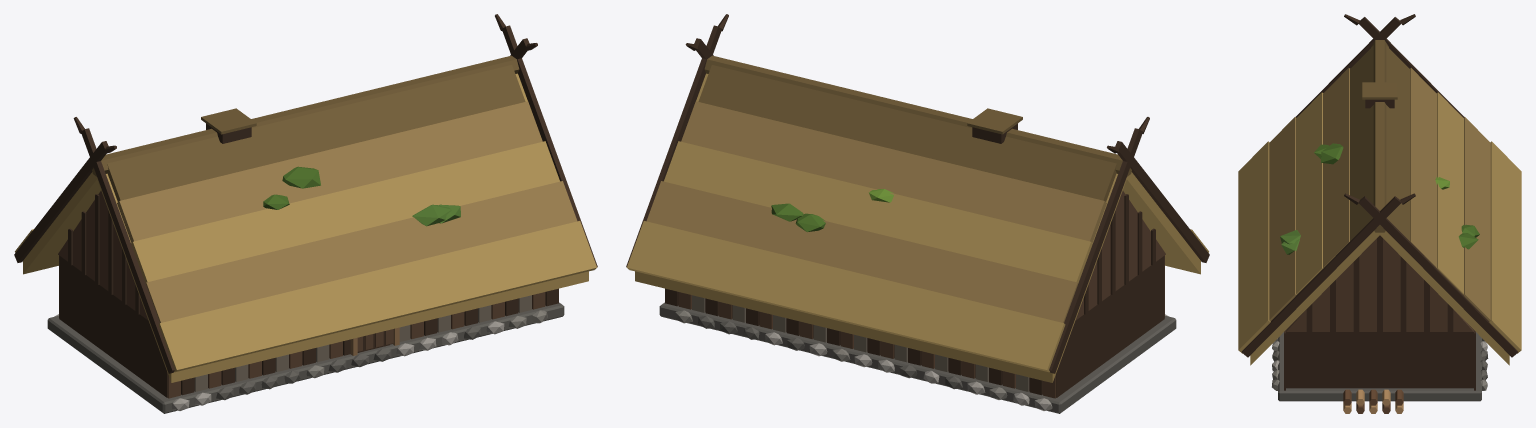
The model's file is forest_longhouse.glb.
The picture shows the model from 3 angles, left to right: view 1: azimuth 30°, elevation 25°; view 2: azimuth 150°, elevation 25°; view 3: azimuth 270°, elevation 25°; orthographic projection. The views are drawn at different scales.
Parts seen in each view (by area): view 1: forest_longhouse; view 2: forest_longhouse; view 3: forest_longhouse.
Boxes of the visible parts, x1,y1,x2,y2 form: forest_longhouse: (14, 14, 597, 413); forest_longhouse: (626, 14, 1209, 413); forest_longhouse: (1238, 14, 1521, 413).
Size of the model in its own units: 13.85 by 7.24 by 8.74.
